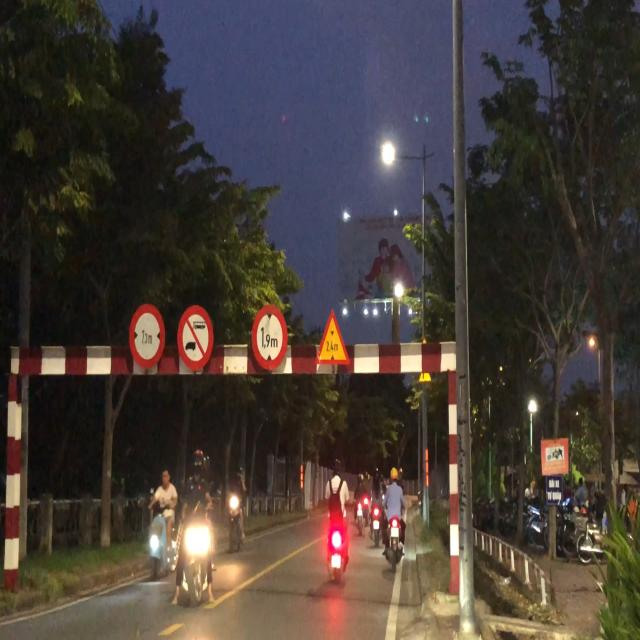Bien bao cam xe oto khach va xe oto tai: (176, 298, 213, 372)
Bien bao chieu cao tinh khong thuc te: (314, 302, 353, 374)
Bien bao han che chieu cao: (250, 303, 289, 373)
